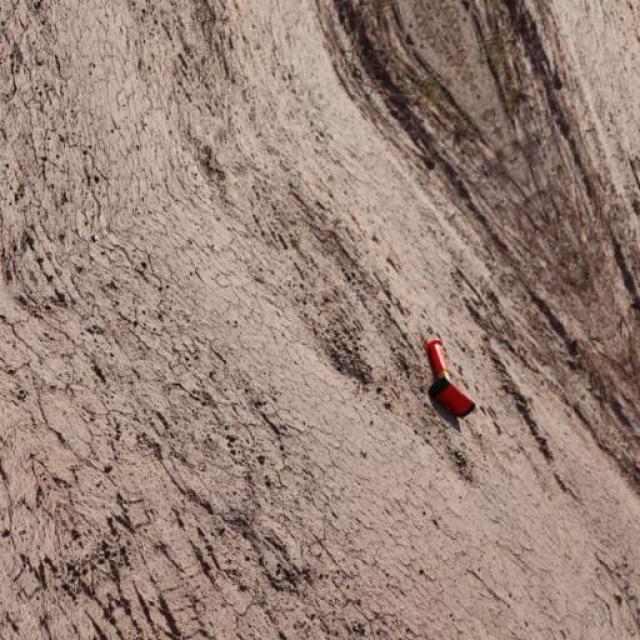mallet: (424, 336, 476, 419)
